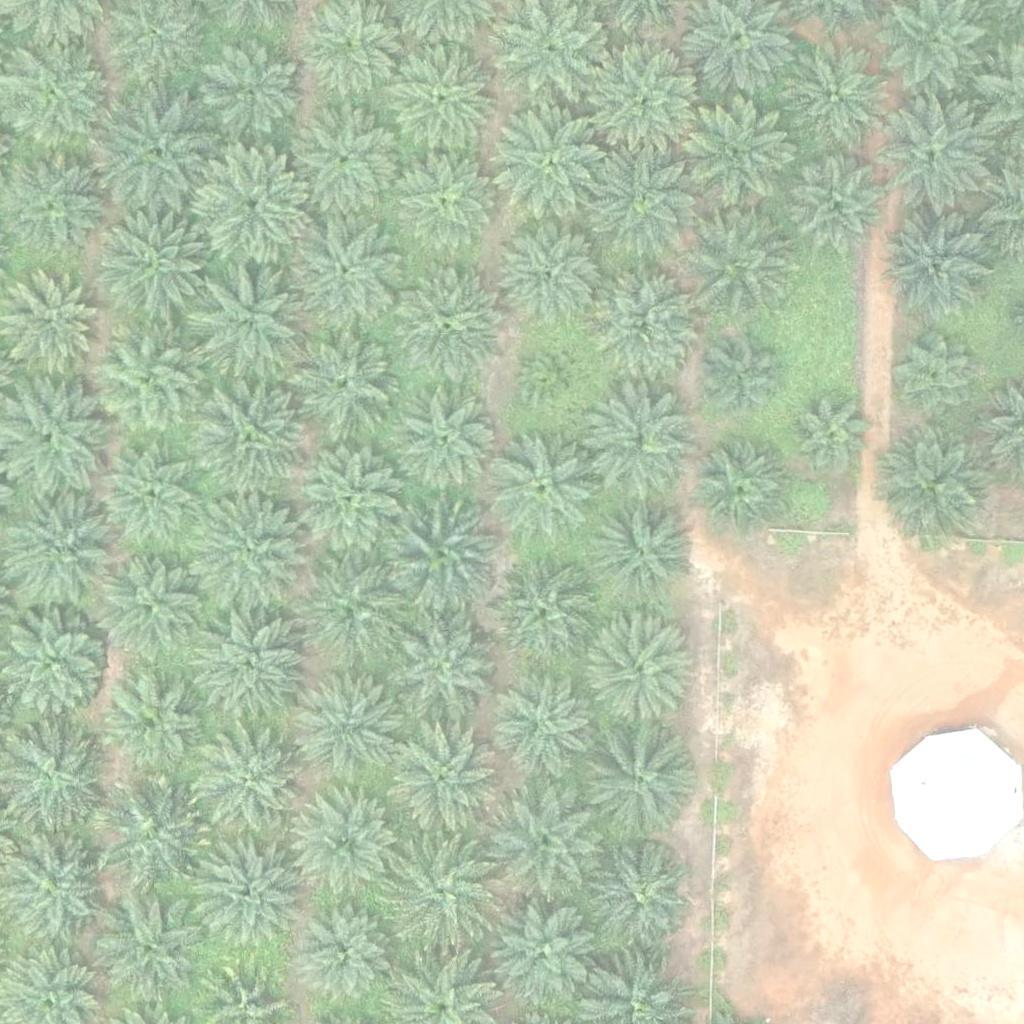Kelapa_Sawit: (589, 265, 702, 379), (495, 106, 608, 220), (90, 322, 203, 436), (195, 380, 308, 494), (195, 498, 308, 612), (294, 554, 407, 668), (295, 669, 408, 783), (879, 99, 992, 212), (882, 214, 995, 327), (777, 35, 890, 148), (593, 46, 706, 159), (587, 141, 700, 254), (197, 149, 310, 262), (194, 261, 307, 374), (103, 98, 216, 211), (96, 210, 209, 323), (191, 611, 304, 724), (198, 729, 311, 842), (291, 788, 404, 901), (487, 432, 600, 545), (484, 554, 597, 667), (583, 389, 696, 502), (587, 493, 700, 606), (587, 616, 700, 729), (582, 728, 695, 841), (882, 427, 995, 540), (391, 44, 503, 158), (296, 444, 408, 558), (388, 609, 500, 723), (387, 726, 499, 840), (490, 787, 602, 901), (688, 95, 800, 208), (687, 202, 799, 315), (393, 270, 505, 383), (292, 107, 404, 220), (296, 217, 408, 330), (1, 38, 113, 151), (4, 493, 116, 606), (97, 548, 209, 661), (94, 778, 206, 891), (290, 326, 402, 439), (388, 502, 500, 615), (382, 835, 494, 948), (487, 899, 599, 1012), (191, 832, 303, 945), (95, 891, 207, 1004), (789, 155, 889, 256), (2, 270, 102, 371), (106, 671, 206, 772), (398, 391, 498, 492), (503, 223, 603, 323), (396, 154, 496, 254), (205, 44, 305, 144), (101, 449, 201, 549), (493, 674, 593, 774), (592, 847, 692, 947), (698, 445, 786, 534), (894, 335, 981, 423), (303, 909, 390, 997), (707, 345, 782, 421), (793, 396, 868, 471), (524, 348, 586, 411)
